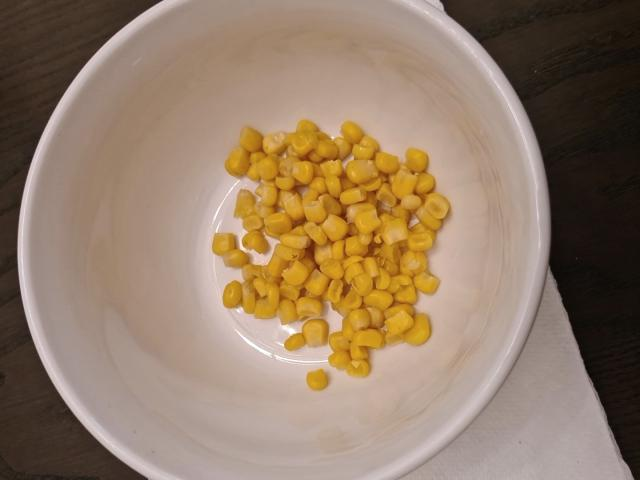kichen waste: (212, 120, 450, 391)
